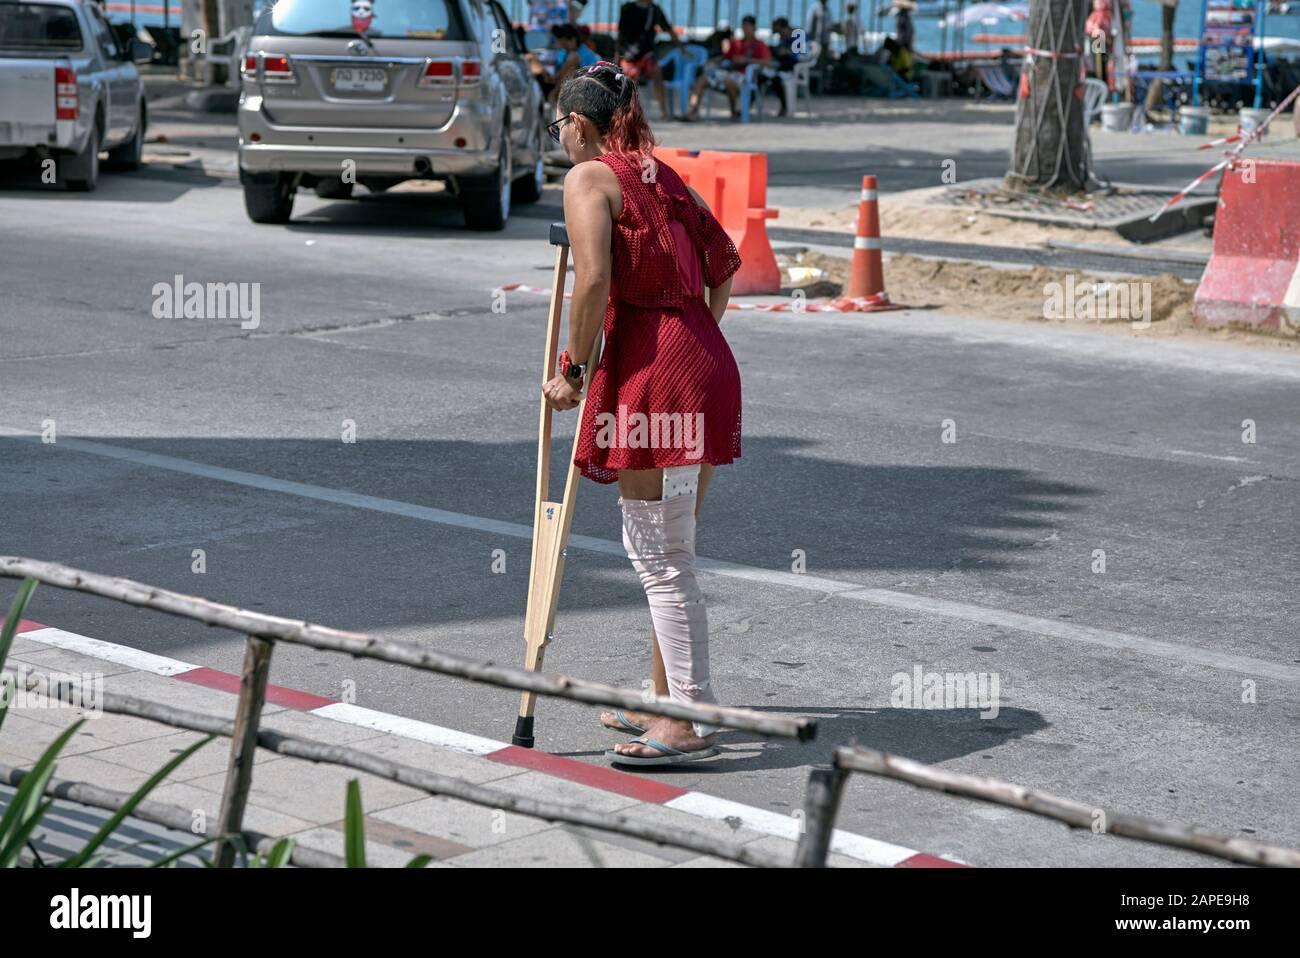crutches: (507, 47, 735, 773)
